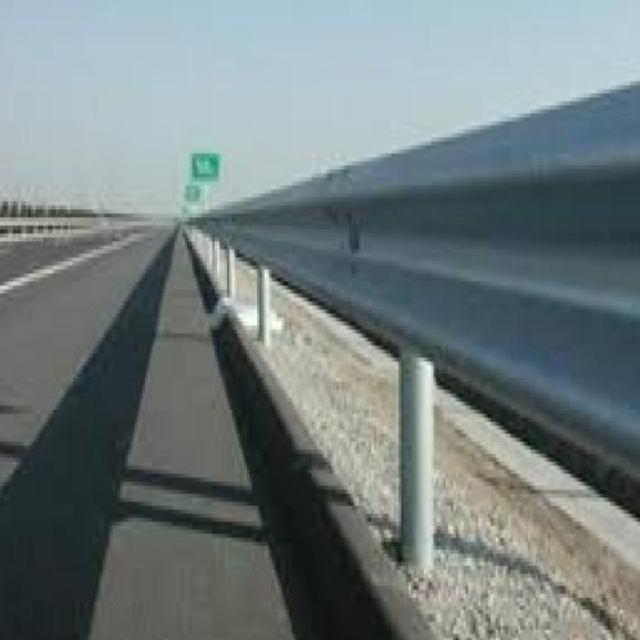Guard rail: (198, 85, 640, 512)
